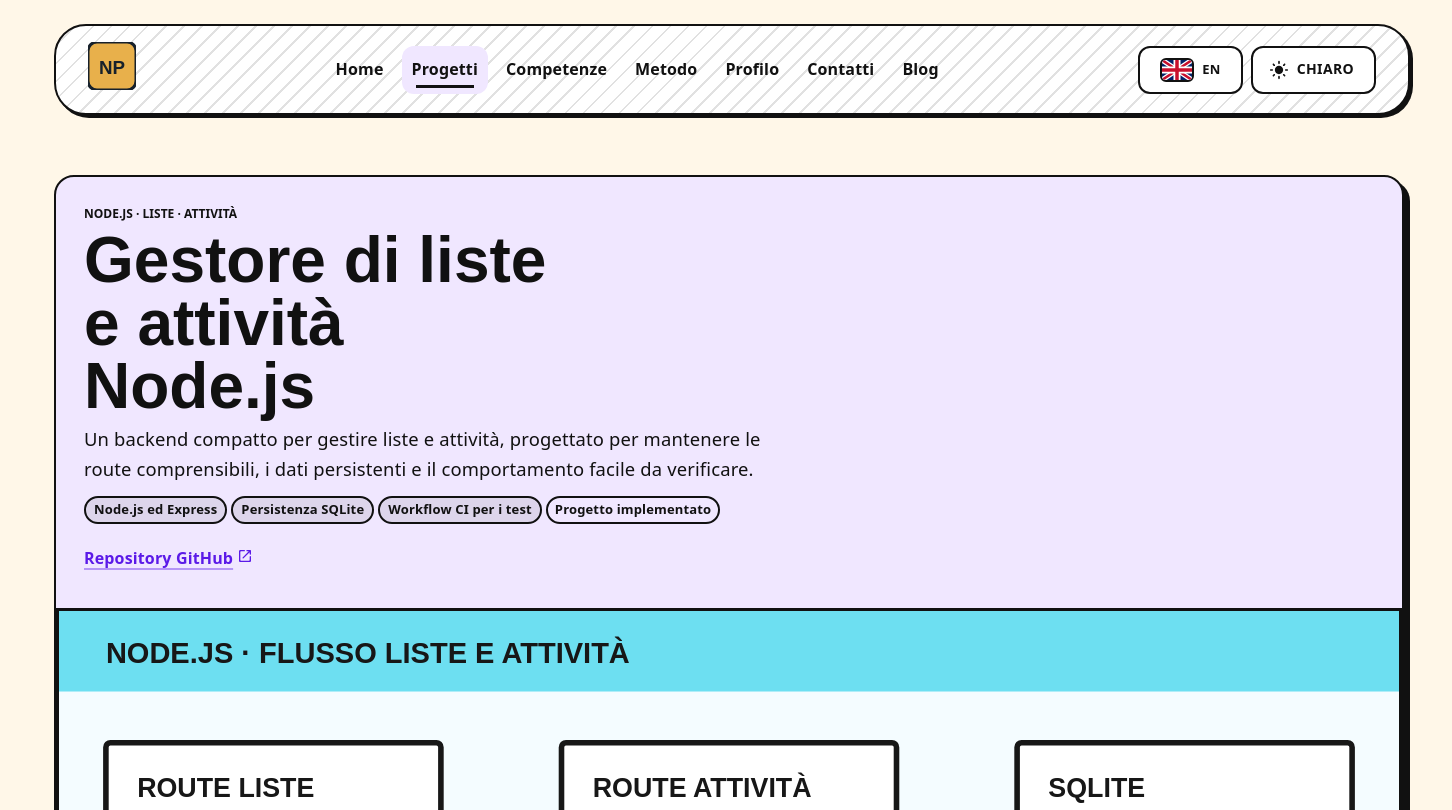
Test: critical CTA and link behaviour › navigates from the localized footer to Privacy and preserves project language switching
The width and height of the screenshot is (1452, 810).
Click the link with aria-label "Passa all'inglese": (1191, 70) [1138,46,1243,94]
(page scrolled)
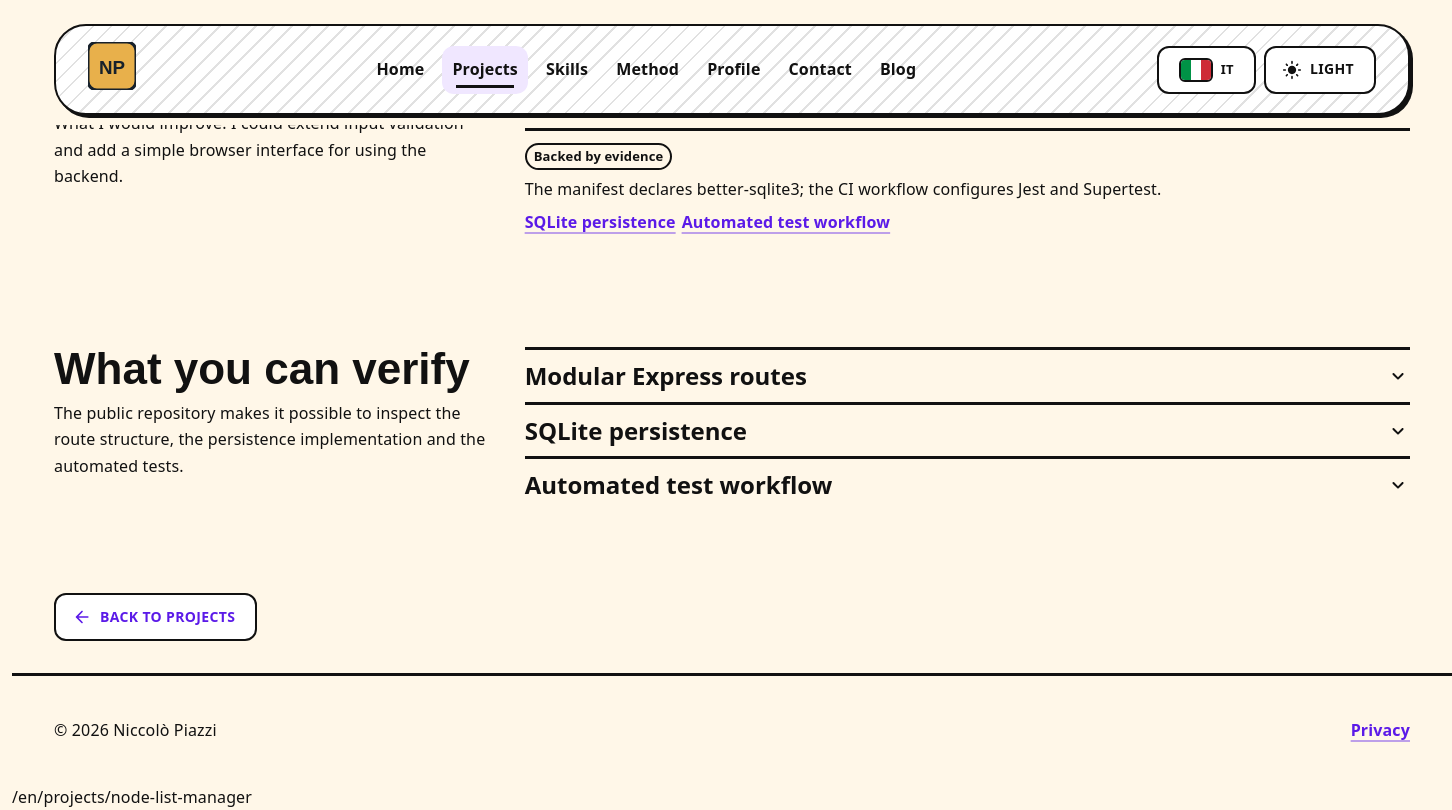
Now the text with test id "location" reads "/en/projects/node-list-manager", box [12,786,252,808]
Click the link "Privacy": (1380, 730) [1351,719,1410,741]
(page scrolled)
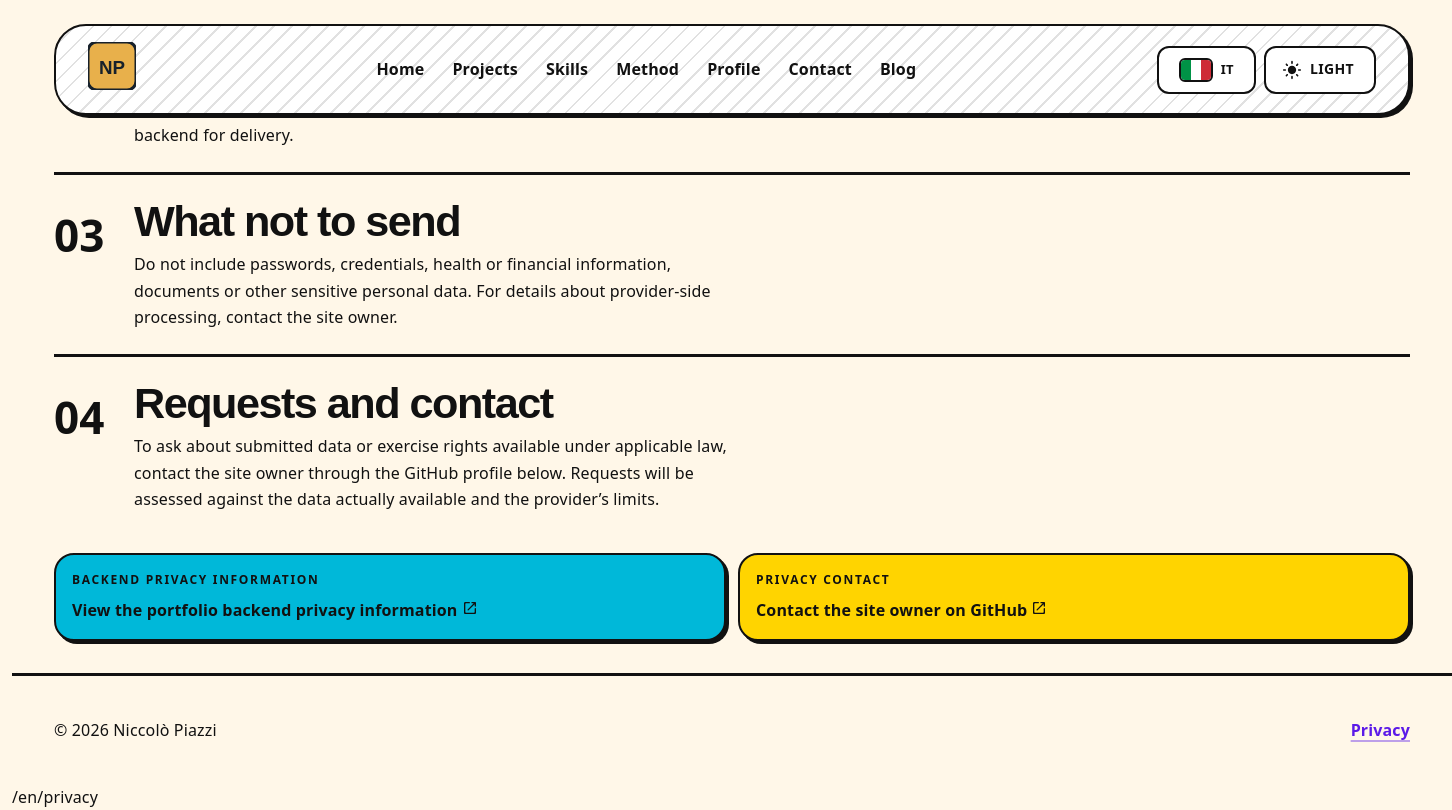
Now the text with test id "location" reads "/en/privacy", box [12,786,98,808]
